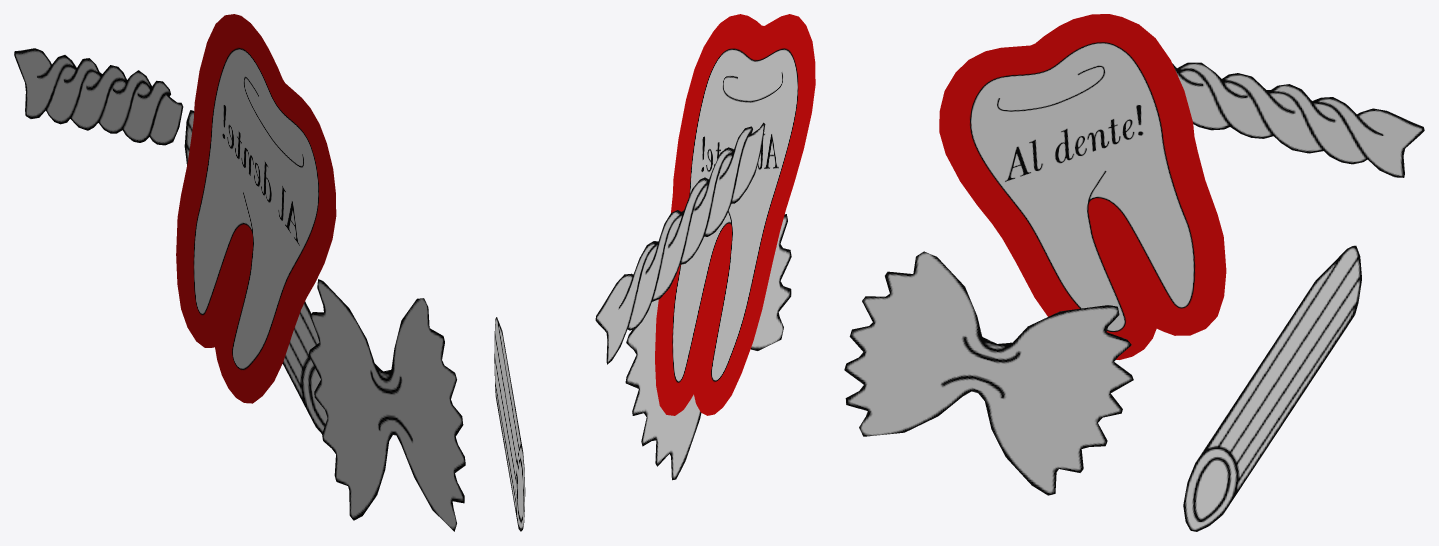
File: pastachute.glb
3 views of the same model, side by side, from view 1: azimuth 30°, elevation 25°; view 2: azimuth 150°, elevation 25°; view 3: azimuth 270°, elevation 25° (orthographic). The views are drawn at different scales.
Parts seen in each view (by area): view 1: farfalle; view 2: farfalle; view 3: farfalle.
Boxes of the visible parts, x1,y1,x2,y2 form: farfalle: [14, 14, 465, 531]; farfalle: [494, 14, 815, 531]; farfalle: [844, 14, 1424, 531].
Size of the model in its own units: 0.5518 by 1.3 by 1.51.
4 materials, 4 textured.
